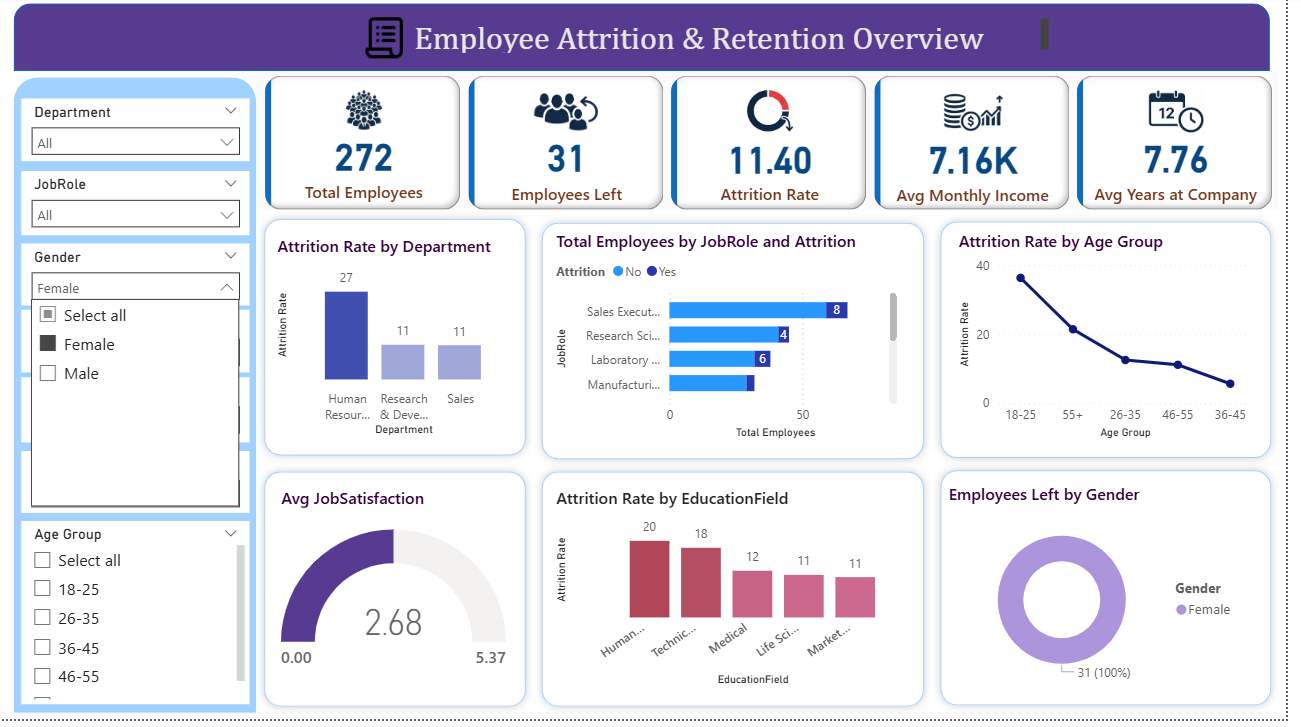

What the dashboard file says about the page in this screenshot:
{"tool":"powerbi","page":{"name":"Page 1","canvas":[1280,720],"ordinal":0},"visuals":[{"type":"shape","box":[14.3,7.1,1250,67.1],"z":0},{"type":"cardVisual","fields":{"Data":["Attrition_data.Total Employees","Attrition_data.Employees Left","Attrition_data.Attrition Rate","Attrition_data.Avg Monthly Income","Attrition_data.Avg Years at Company"]},"box":[255,75,1017.5,138.8],"z":1000},{"type":"textbox","box":[364.3,21.4,602.9,122.9],"z":2000},{"type":"shape","box":[255,213.8,276.2,251.2],"z":3000},{"type":"shape","box":[531.2,465,396.2,250],"z":4000},{"type":"shape","box":[255,465,276.2,250],"z":5000},{"type":"shape","box":[531.2,217.5,396.2,251.2],"z":6000},{"type":"shape","box":[927.5,216.2,345,251.2],"z":7000},{"type":"shape","box":[927.5,463.8,345,250],"z":8000},{"type":"columnChart","fields":{"Category":["Attrition_data.Department"],"Y":["Attrition_data.Attrition Rate"]},"box":[271.2,237.5,237.5,205],"z":9000},{"type":"donutChart","fields":{"Category":["Attrition_data.Gender"],"Y":["Attrition_data.Employees Left"]},"box":[939.2,483.5,301.3,212.7],"z":10000},{"type":"lineChart","fields":{"Y":["Attrition_data.Attrition Rate"],"Category":["Attrition_data.Age Group"]},"box":[948.8,232.5,301.2,212.5],"z":11000},{"type":"clusteredColumnChart","fields":{"Category":["Attrition_data.EducationField"],"Y":["Attrition_data.Attrition Rate"]},"box":[548.1,487.3,349.4,203.8],"z":12000},{"type":"gauge","fields":{"Y":["Attrition_data.Avg JobSatisfaction"]},"box":[275,487.5,233.8,208.8],"z":13000},{"type":"slicer","fields":{"Values":["Attrition_data.JobRole"]},"box":[558.8,338.8,218.8,62.5],"z":14000},{"type":"barChart","fields":{"Category":["Attrition_data.JobRole"],"Series":["Attrition_data.Attrition"],"Y":["Attrition_data.Total Employees"]},"box":[548.1,232.9,349.4,212.7],"z":15000},{"type":"image","box":[349.4,11.4,68.4,60.8],"z":16000},{"type":"textbox","box":[407.1,17.1,641.4,44.3],"z":17000},{"type":"shape","box":[13.8,81.2,241.2,632.5],"z":18000},{"type":"slicer","fields":{"Values":["Attrition_data.Department"]},"box":[21.2,102.5,227.5,62.5],"z":19000},{"type":"slicer","fields":{"Values":["Attrition_data.JobRole"]},"box":[21.2,173.8,227.5,63.8],"z":20000},{"type":"slicer","fields":{"Values":["Attrition_data.Gender"]},"box":[21.2,246.2,227.5,61.2],"z":21000},{"type":"slicer","fields":{"Values":["Attrition_data.MaritalStatus"]},"box":[21.2,312.5,227.5,62.5],"z":22000},{"type":"slicer","fields":{"Values":["Attrition_data.EducationField"]},"box":[21.2,380,227.5,65],"z":23000},{"type":"slicer","fields":{"Values":["Attrition_data.OverTime"]},"box":[21.2,452.5,227.5,61.2],"z":24000},{"type":"slicer","fields":{"Values":["Attrition_data.Age Group"]},"box":[21.2,522.5,227.5,182.5],"z":25000}]}

Visuals, with their boxes in screenshot pixels (x1, y1, x2, y2), scaled from the page's 1280x720 canvas onto the 1301x727 screenshot:
shape: (15, 7, 1285, 75)
cardVisual - Attrition_data.Total Employees x Attrition_data.Employees Left: (259, 76, 1293, 216)
textbox: (370, 22, 983, 146)
shape: (259, 216, 540, 470)
shape: (540, 470, 943, 722)
shape: (259, 470, 540, 722)
shape: (540, 220, 943, 473)
shape: (943, 218, 1293, 472)
shape: (943, 468, 1293, 721)
columnChart - Attrition_data.Department x Attrition_data.Attrition Rate: (276, 240, 517, 447)
donutChart - Attrition_data.Gender x Attrition_data.Employees Left: (955, 488, 1261, 703)
lineChart - Attrition_data.Attrition Rate x Attrition_data.Age Group: (964, 235, 1271, 449)
clusteredColumnChart - Attrition_data.EducationField x Attrition_data.Attrition Rate: (557, 492, 912, 698)
gauge - Attrition_data.Avg JobSatisfaction: (280, 492, 517, 703)
slicer - Attrition_data.JobRole: (568, 342, 790, 405)
barChart - Attrition_data.JobRole x Attrition_data.Attrition: (557, 235, 912, 450)
image: (355, 12, 425, 73)
textbox: (414, 17, 1066, 62)
shape: (14, 82, 259, 721)
slicer - Attrition_data.Department: (22, 103, 253, 167)
slicer - Attrition_data.JobRole: (22, 175, 253, 240)
slicer - Attrition_data.Gender: (22, 249, 253, 310)
slicer - Attrition_data.MaritalStatus: (22, 316, 253, 379)
slicer - Attrition_data.EducationField: (22, 384, 253, 449)
slicer - Attrition_data.OverTime: (22, 457, 253, 519)
slicer - Attrition_data.Age Group: (22, 528, 253, 712)
